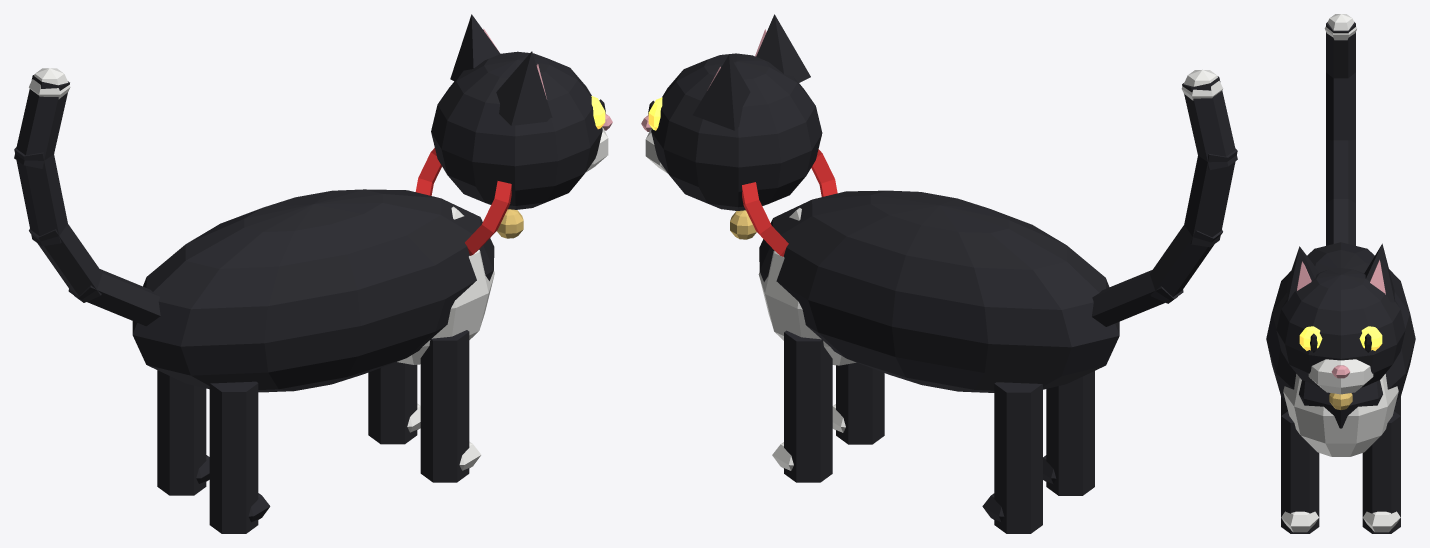
Rendered from SM_Nilo.fbx.
The picture shows the model from 3 angles, left to right: view 1: azimuth 30°, elevation 25°; view 2: azimuth 150°, elevation 25°; view 3: azimuth 270°, elevation 25°; orthographic projection. The views are drawn at different scales.
Visible parts, largest first — view 1: SM_Nilo; view 2: SM_Nilo; view 3: SM_Nilo.
Boxes of the visible parts, bbox=[...] form: SM_Nilo: bbox=[14, 14, 612, 533]; SM_Nilo: bbox=[641, 14, 1237, 533]; SM_Nilo: bbox=[1266, 14, 1415, 533].
Size of the model in its own units: 78.43 by 60.4 by 22.
